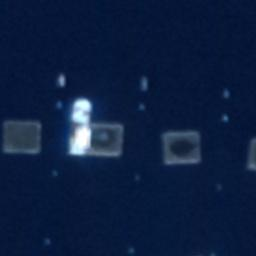square_cover: (74, 116, 128, 165), (156, 124, 208, 168), (1, 115, 49, 160)
